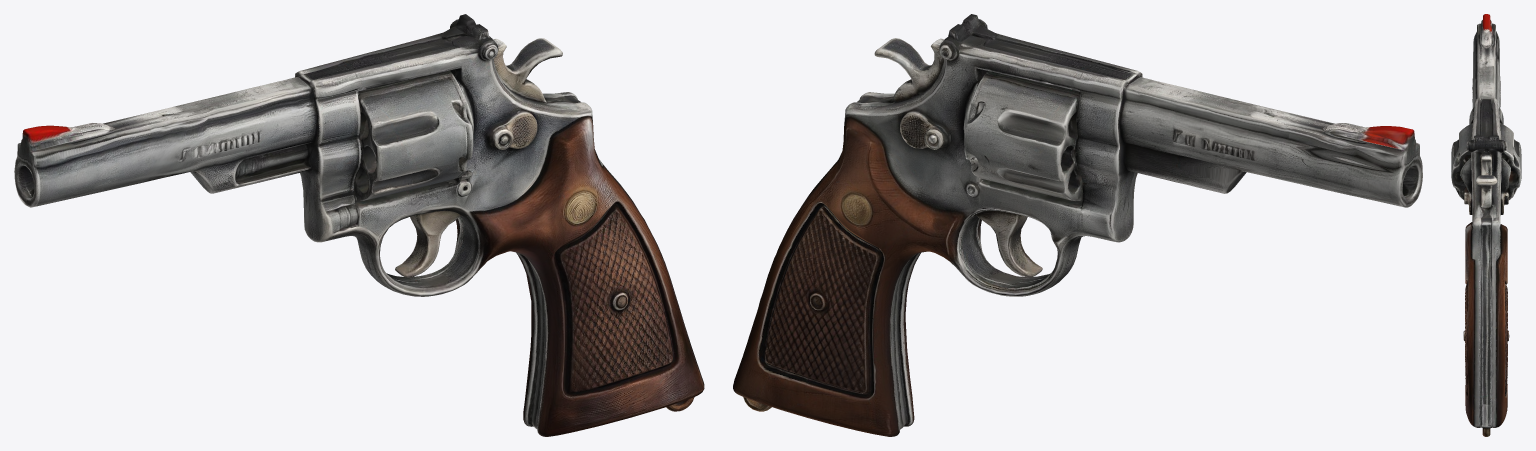
The model's file is revolver_45.glb.
The picture shows the model from 3 angles, left to right: view 1: azimuth 30°, elevation 25°; view 2: azimuth 150°, elevation 25°; view 3: azimuth 270°, elevation 25°; orthographic projection. The views are drawn at different scales.
Bounding box in the file's own units: 0.3 × 0.1877 × 0.0488.
1 material, 1 textured.
